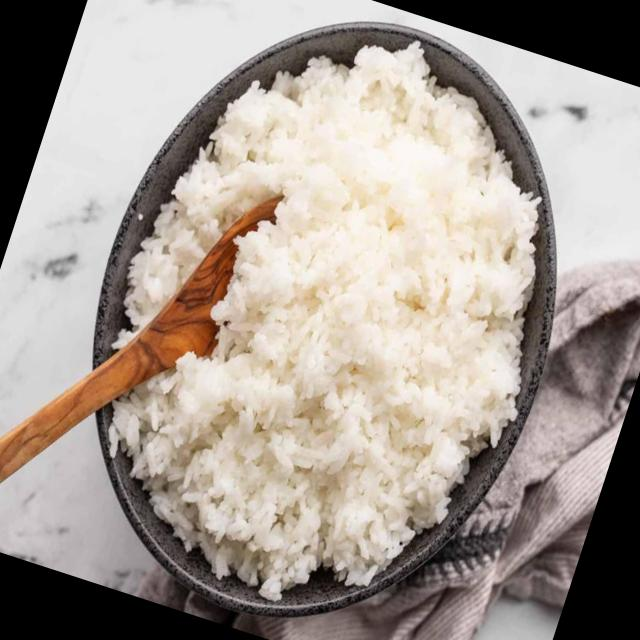rice: (103, 49, 535, 594)
